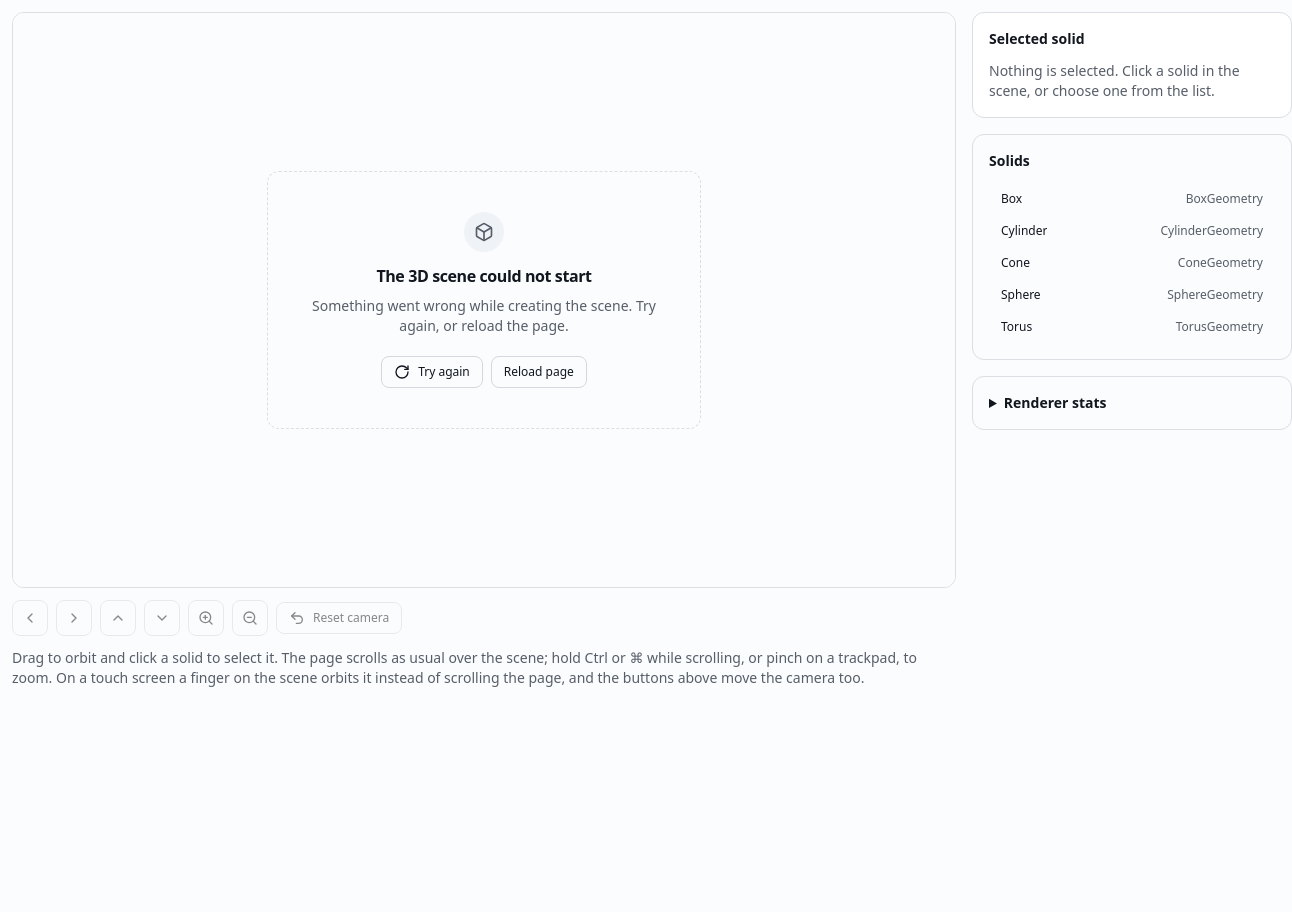
when the scene cannot start › offers Retry for a failed start, and a fresh scene on a fresh canvas replaces the failure
Expected: the heading "The 3D scene could not start" is shown, [376,264,592,288]
Click the button "Try again".
click(432, 372)  # box [381,356,483,388]
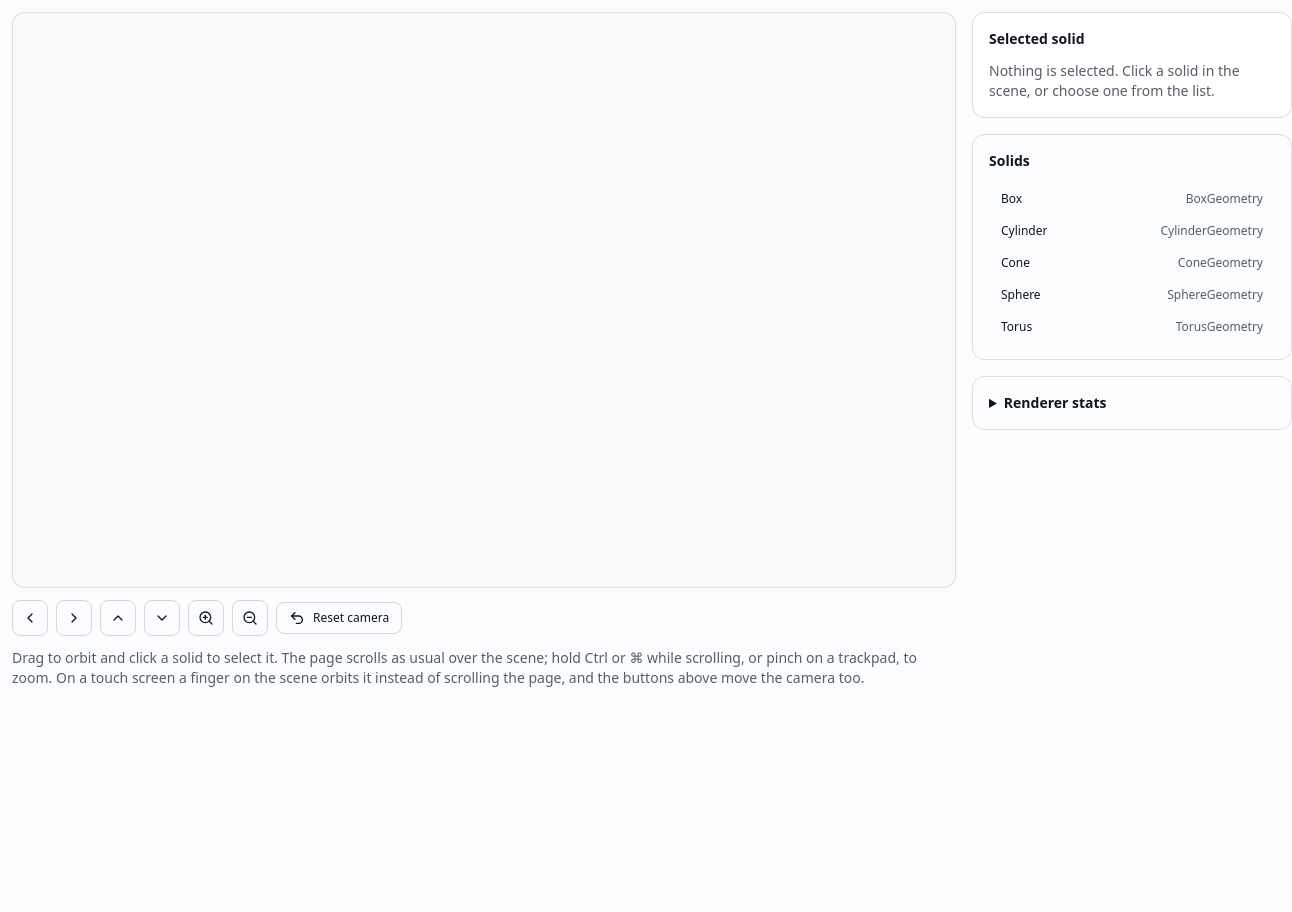
Result: the message "The 3D scene could not start Something went wrong while creating the scene. Try" is gone
